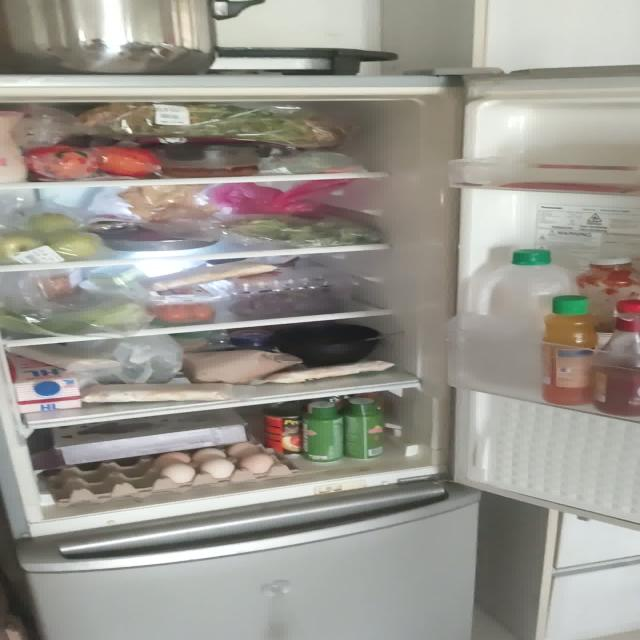apple: (0, 213, 104, 265)
egg: (45, 441, 300, 504)
leafy_greens: (78, 102, 346, 148), (225, 215, 384, 246)
orange: (26, 145, 161, 180)
tempeh: (140, 260, 278, 292), (266, 359, 395, 388), (90, 381, 232, 401)
